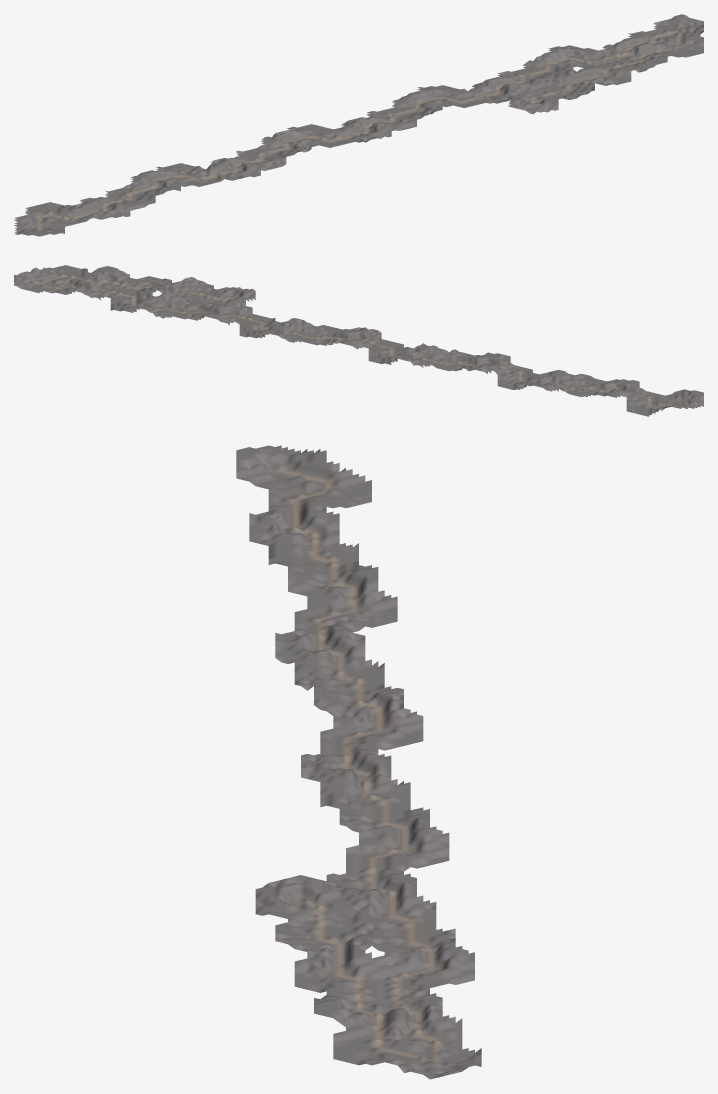
The model's file is terrain.glb.
The picture shows the model from 3 angles, top to bottom: view 1: azimuth 30°, elevation 25°; view 2: azimuth 150°, elevation 25°; view 3: azimuth 270°, elevation 25°; orthographic projection. The views are drawn at different scales.
Parts seen in each view (by area): view 1: NATURAL_15_-2, NATURAL_10_-2, NATURAL_14_-2, NATURAL_4_-1, NATURAL_12_-1, NATURAL_11_-2, NATURAL_13_-1, NATURAL_1_-1, NATURAL_5_-1, NATURAL_0_-1, NATURAL_13_-2, NATURAL_12_-2 (+14 smaller); view 2: NATURAL_13_-2, NATURAL_11_-1, NATURAL_12_-1, NATURAL_2_-1, NATURAL_14_-2, NATURAL_4_-1, NATURAL_15_-2, NATURAL_12_-2, NATURAL_10_-2, NATURAL_1_-1, NATURAL_16_-2, NATURAL_11_-2 (+19 smaller); view 3: NATURAL_15_-2, NATURAL_14_-2, NATURAL_12_-2, NATURAL_11_-1, NATURAL_10_-2, NATURAL_13_-2, NATURAL_0_-1, NATURAL_5_-1, NATURAL_12_-1, NATURAL_3_-1, NATURAL_2_-1, NATURAL_4_-1 (+18 smaller).
Boxes of the visible parts, box(x1,y1,x2,y2) form: NATURAL_15_-2: box(607, 36, 692, 57); NATURAL_10_-2: box(392, 88, 474, 110); NATURAL_14_-2: box(563, 47, 648, 69); NATURAL_4_-1: box(171, 162, 256, 184); NATURAL_12_-1: box(519, 77, 594, 99); NATURAL_11_-2: box(436, 80, 518, 102); NATURAL_13_-1: box(562, 68, 631, 85); NATURAL_1_-1: box(40, 197, 125, 218); NATURAL_5_-1: box(214, 155, 286, 175); NATURAL_0_-1: box(14, 208, 82, 229); NATURAL_13_-2: box(519, 59, 601, 76); NATURAL_12_-2: box(486, 70, 561, 89); NATURAL_13_-2: box(139, 288, 178, 317); NATURAL_11_-1: box(217, 288, 255, 318); NATURAL_12_-1: box(178, 278, 216, 306); NATURAL_2_-1: box(565, 371, 603, 397); NATURAL_14_-2: box(101, 278, 139, 306); NATURAL_4_-1: box(488, 354, 526, 382); NATURAL_15_-2: box(62, 270, 100, 297); NATURAL_12_-2: box(178, 296, 216, 320); NATURAL_10_-2: box(255, 318, 294, 342); NATURAL_1_-1: box(604, 382, 642, 411); NATURAL_16_-2: box(23, 267, 62, 289); NATURAL_11_-2: box(217, 305, 255, 334); NATURAL_15_-2: box(359, 996, 436, 1055); NATURAL_14_-2: box(359, 961, 436, 1014); NATURAL_12_-2: box(359, 884, 436, 936); NATURAL_11_-1: box(281, 868, 358, 918); NATURAL_10_-2: box(359, 809, 436, 867); NATURAL_13_-2: box(359, 924, 436, 980); NATURAL_0_-1: box(281, 450, 358, 507); NATURAL_5_-1: box(281, 634, 358, 690); NATURAL_12_-1: box(281, 899, 358, 950); NATURAL_3_-1: box(288, 562, 358, 618); NATURAL_2_-1: box(281, 529, 358, 574); NATURAL_4_-1: box(281, 603, 358, 655).
Bounding box in the file's own units: 378 × 2.9 × 61.56.
